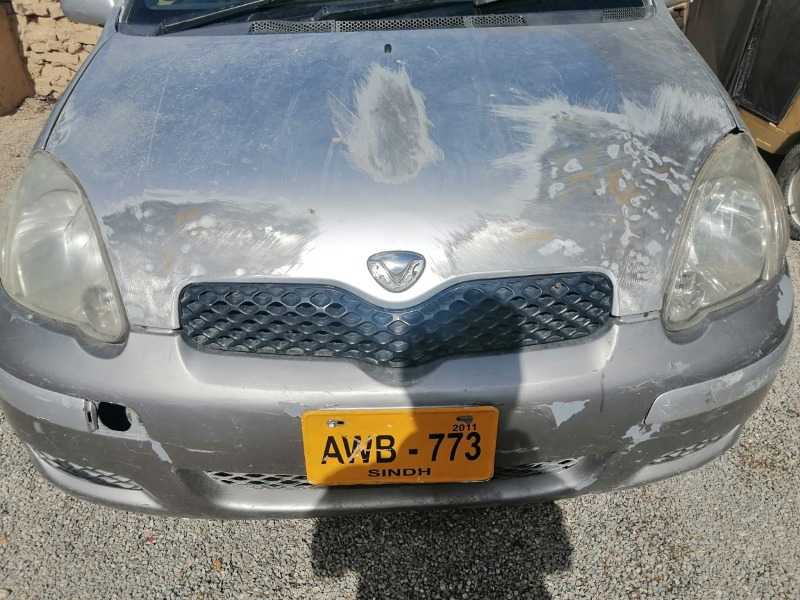License Plate: (297, 406, 498, 487)
